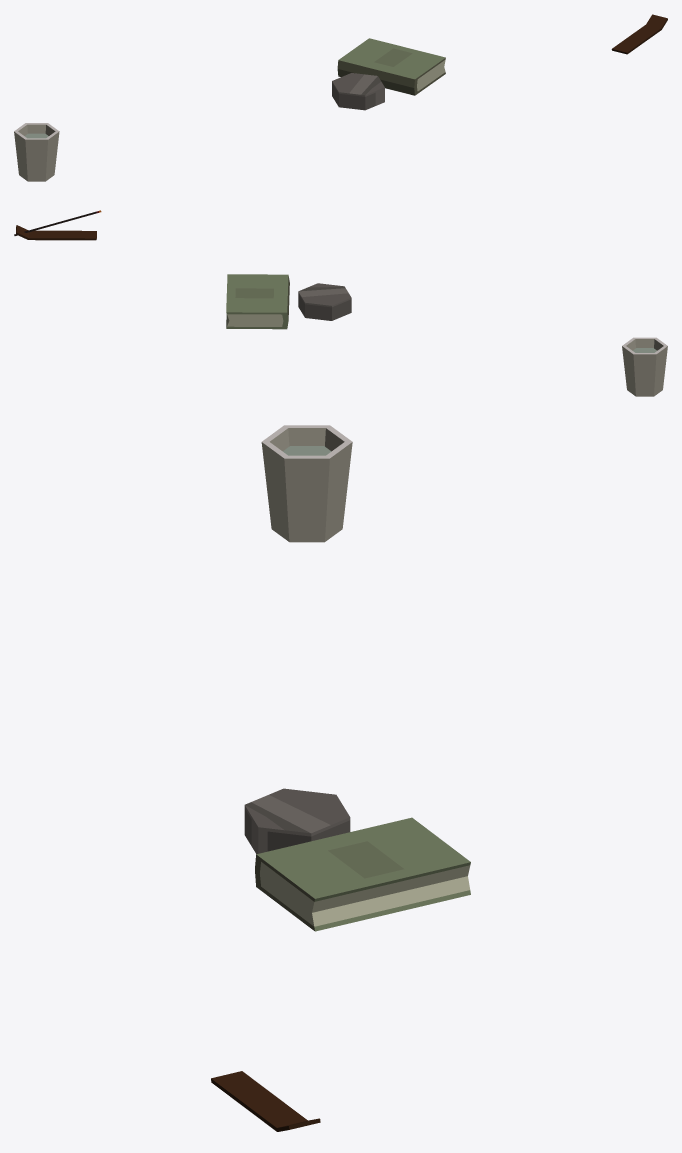
Rendered from Character03_Assets.fbx.
3 renders of one model, top to bottom at view 1: azimuth 30°, elevation 25°; view 2: azimuth 150°, elevation 25°; view 3: azimuth 270°, elevation 25°, orthographic. The views are drawn at different scales.
Visible parts, largest first — view 1: Mesh_Book, Mesh_Glass01, Mesh_Box, Mesh_Incienso; view 2: Mesh_Book, Mesh_Glass01, Mesh_Box, Mesh_Incienso; view 3: Mesh_Book, Mesh_Glass01, Mesh_Box, Mesh_Incienso.
Boxes of the visible parts, x1=… form: Mesh_Book: x1=337, y1=38, x2=445, y2=95; Mesh_Glass01: x1=14, y1=123, x2=59, y2=181; Mesh_Box: x1=332, y1=73, x2=384, y2=110; Mesh_Incienso: x1=611, y1=14, x2=667, y2=54; Mesh_Book: x1=226, y1=274, x2=289, y2=329; Mesh_Glass01: x1=622, y1=337, x2=667, y2=396; Mesh_Box: x1=298, y1=283, x2=351, y2=320; Mesh_Incienso: x1=14, y1=210, x2=101, y2=240; Mesh_Book: x1=255, y1=817, x2=470, y2=931; Mesh_Glass01: x1=261, y1=425, x2=352, y2=542; Mesh_Box: x1=244, y1=788, x2=350, y2=854; Mesh_Incienso: x1=211, y1=1071, x2=320, y2=1131.
Bounding box in the file's own units: 27.12 × 4.75 × 1.78.
